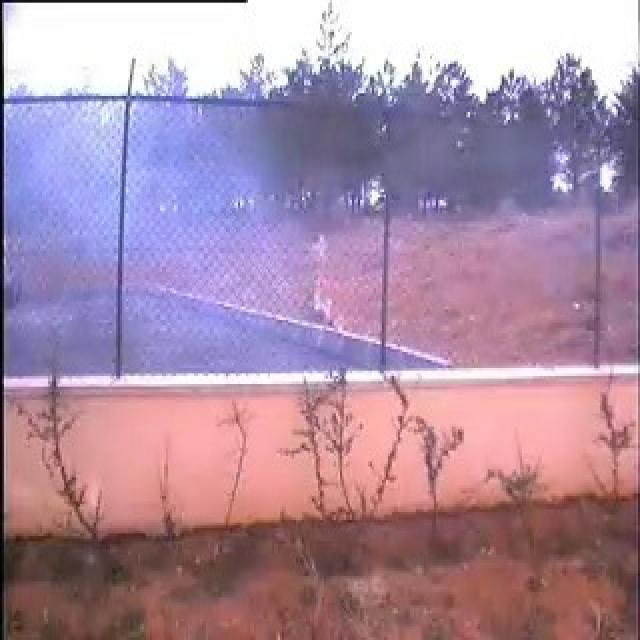smoke: (30, 129, 294, 350)
